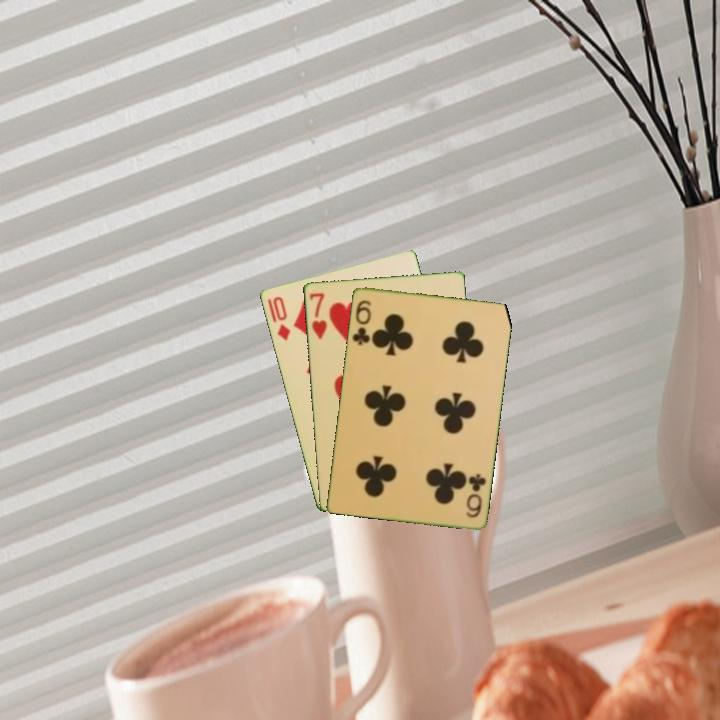10d: (264, 293, 293, 343)
6c: (348, 296, 374, 348), (462, 470, 489, 520)
7h: (306, 289, 330, 341)
